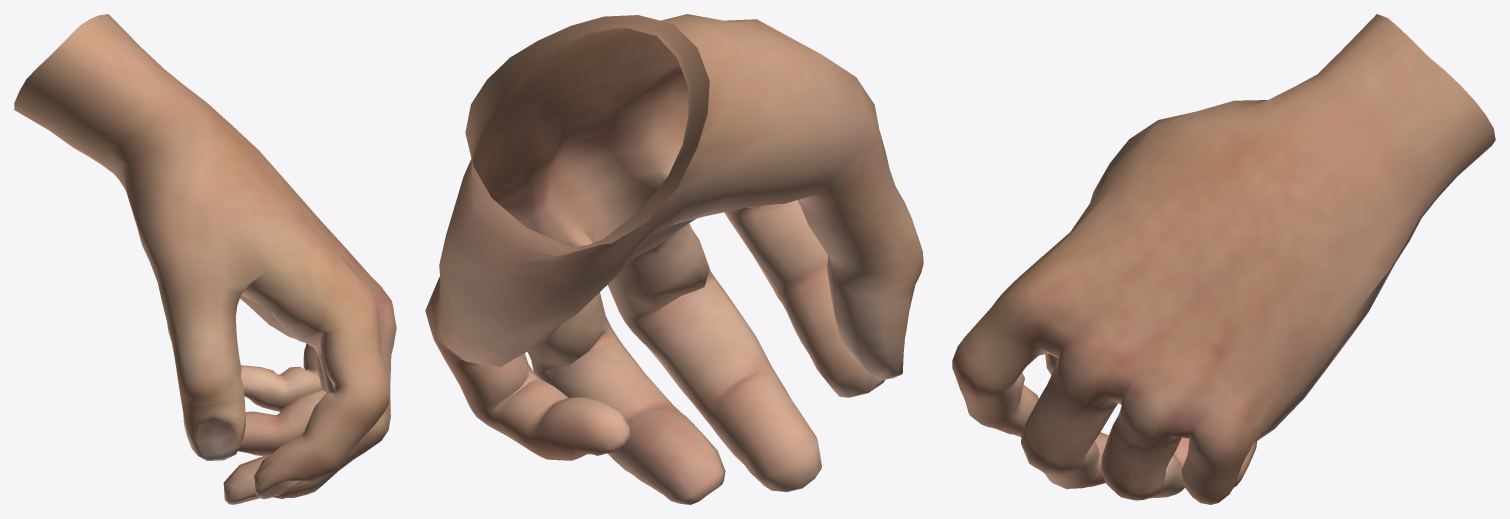
Rendered from hand_left_grip.glb.
3 views of the same model, side by side, from view 1: azimuth 30°, elevation 25°; view 2: azimuth 150°, elevation 25°; view 3: azimuth 270°, elevation 25° (orthographic). The views are drawn at different scales.
Parts seen in each view (by area): view 1: MakeHumanGripLeft; view 2: MakeHumanGripLeft; view 3: MakeHumanGripLeft.
Boxes of the visible parts, x1,y1,x2,y2 form: MakeHumanGripLeft: (14,14,396,504); MakeHumanGripLeft: (425,14,923,504); MakeHumanGripLeft: (952,14,1495,504).
Size of the model in its own units: 0.0951 by 0.1419 by 0.1589.
Materials: 1 (1 with a texture image).
